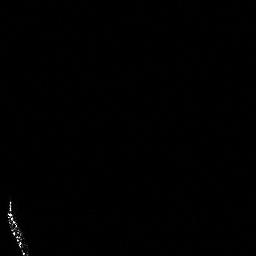ship: (4, 197, 31, 256)
